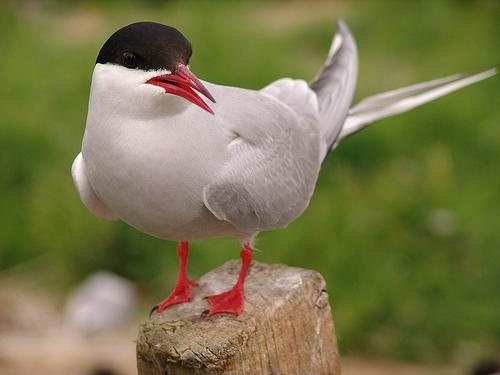bird: (66, 18, 500, 317)
